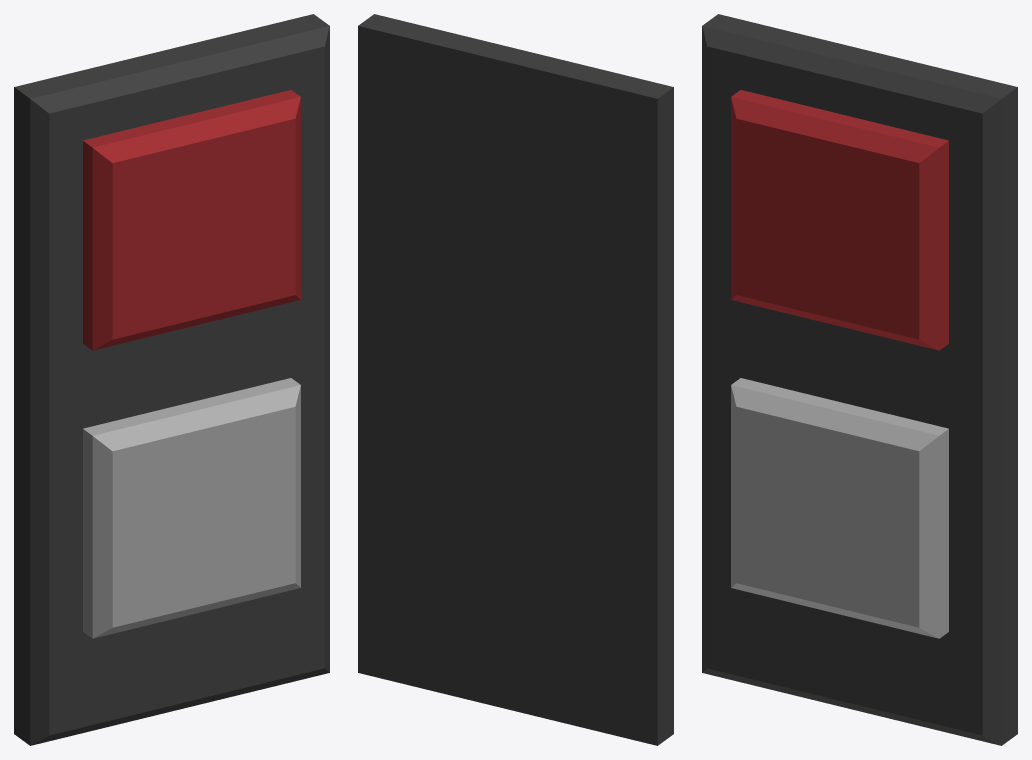
File: Office Buttons.fbx
3 renders of one model, left to right at view 1: azimuth 30°, elevation 25°; view 2: azimuth 150°, elevation 25°; view 3: azimuth 330°, elevation 25°, orthographic.
Visible parts, largest first — view 1: Base_Buttons, Light_Button, Door_Button; view 2: Base_Buttons; view 3: Base_Buttons, Light_Button, Door_Button.
Part boxes in pixels (<box>): Base_Buttons: <box>14,14,329,745</box>; Light_Button: <box>83,378,300,638</box>; Door_Button: <box>83,90,300,350</box>; Base_Buttons: <box>358,14,673,745</box>; Base_Buttons: <box>702,14,1017,745</box>; Light_Button: <box>731,378,948,638</box>; Door_Button: <box>731,90,948,350</box>.
Size of the model in its own units: 125 by 258 by 29.
